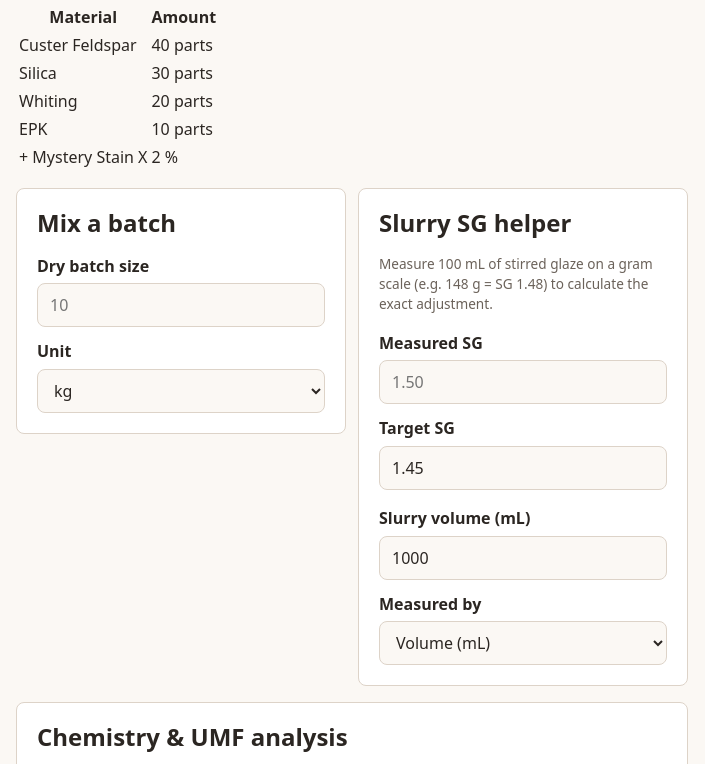
Test case: glaze book › shows SG validation hint for out-of-range input and omits role=alert from historical off-target readings
The image size is (705, 764).
(page scrolled)
Type "148" into the field labelled "Measured SG" at point(523, 382), box [379,360,667,404]
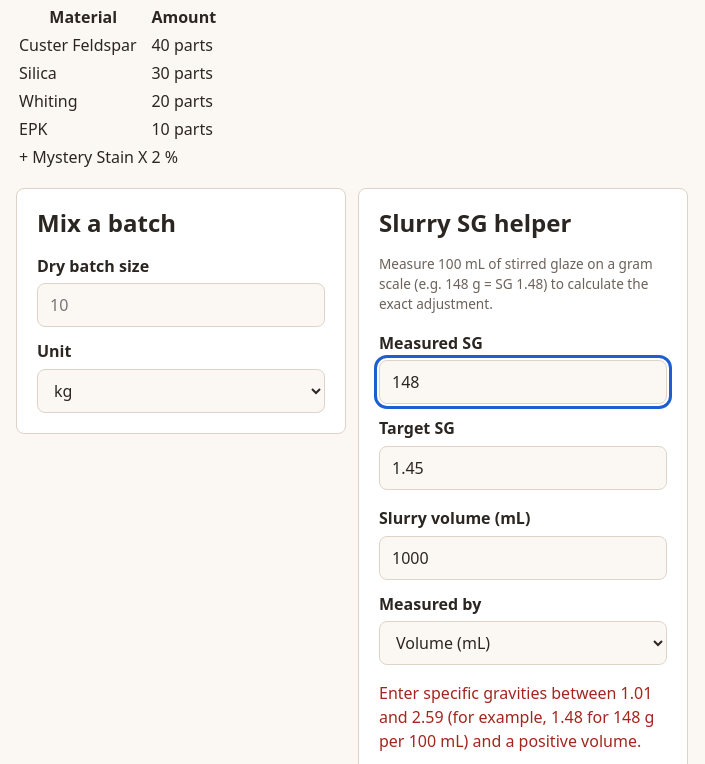
Result: the text "Enter specific gravities between 1.01 and 2.59" is shown at [379,682,654,752]
